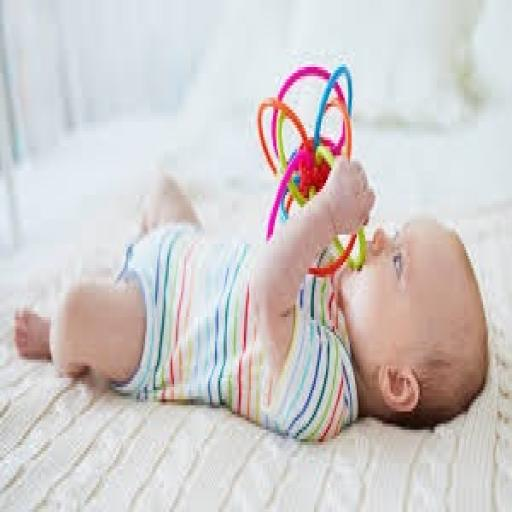baby: (14, 159, 488, 441)
